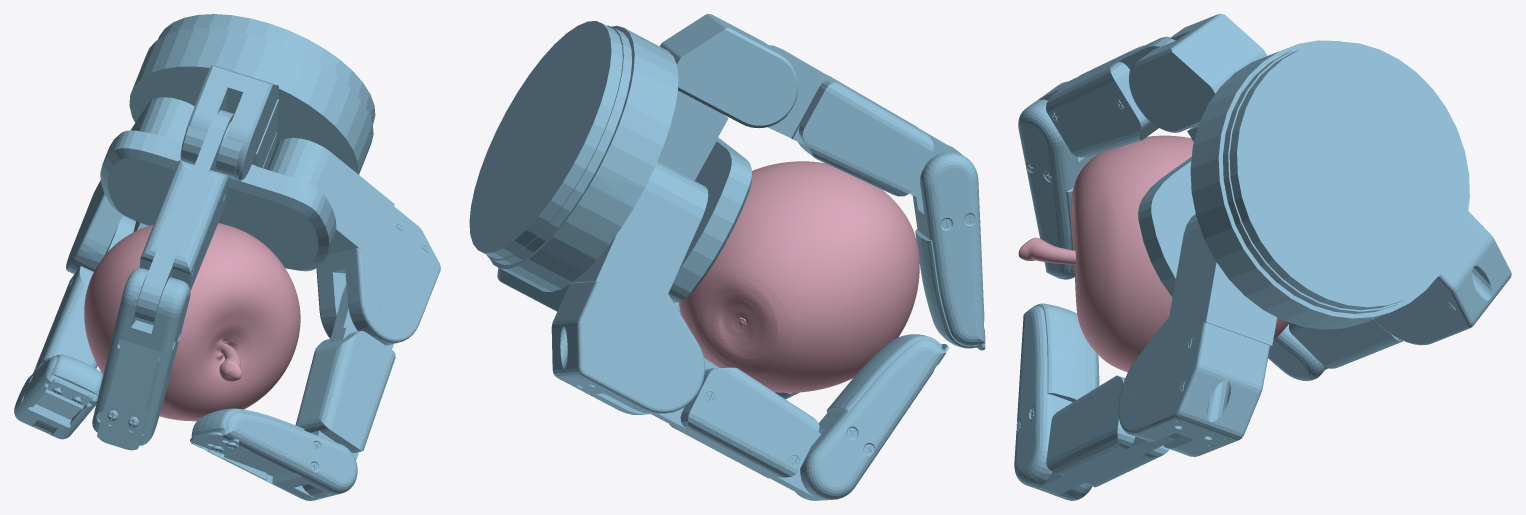
Rendered from Barrett_contactdb+apple_mesh.glb.
The picture shows the model from 3 angles, left to right: view 1: azimuth 30°, elevation 25°; view 2: azimuth 150°, elevation 25°; view 3: azimuth 270°, elevation 25°; orthographic projection. The views are drawn at different scales.
Visible parts, largest first — view 1: world; view 2: world; view 3: world.
Part boxes in pixels (bbox=[...]): world: bbox=[14, 14, 440, 500]; world: bbox=[469, 14, 985, 500]; world: bbox=[1014, 14, 1511, 500].
Size of the model in its own units: 0.1656 by 0.1621 by 0.1556.
